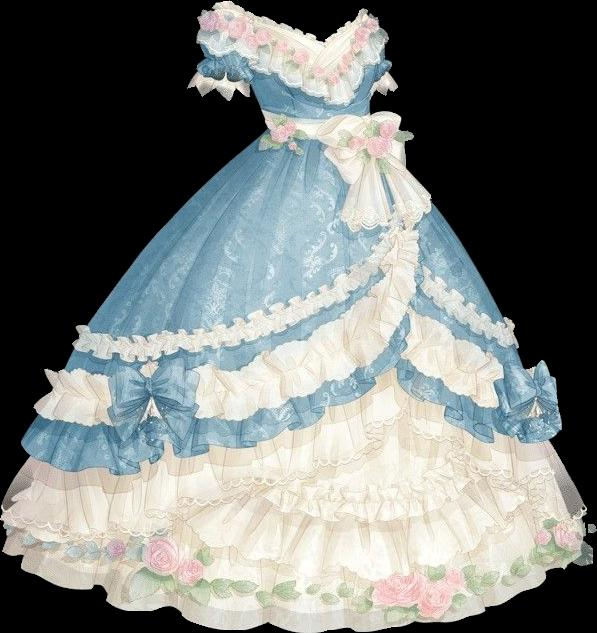Bodice: (252, 13, 382, 137)
Hemline: (21, 202, 434, 476), (0, 525, 588, 632), (3, 392, 409, 539), (174, 490, 538, 584), (397, 412, 584, 516), (388, 362, 552, 448), (239, 471, 485, 526)
Neckline: (259, 13, 362, 50), (261, 107, 369, 125)
Skirt: (1, 129, 591, 632)
Sleeve: (187, 1, 260, 100)
Sleeveline: (249, 18, 264, 80)
Waistline: (251, 57, 383, 108), (263, 125, 368, 144)
